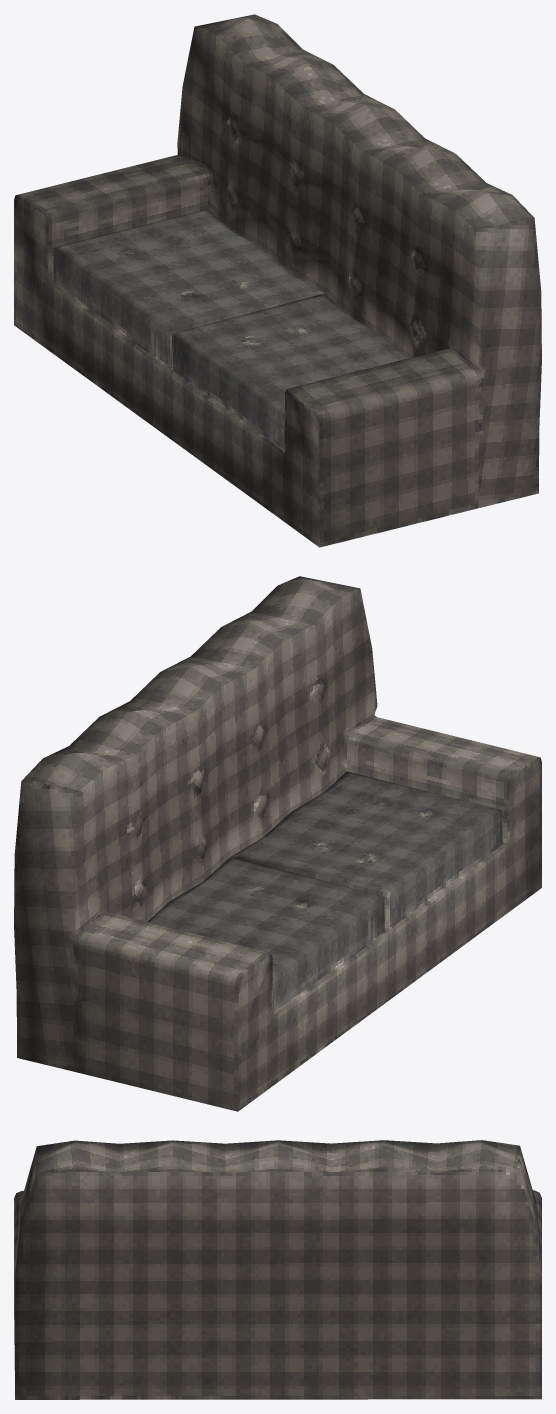
The model's file is couch.glb.
3 renders of one model, top to bottom at view 1: azimuth 30°, elevation 25°; view 2: azimuth 150°, elevation 25°; view 3: azimuth 270°, elevation 25°, orthographic. The views are drawn at different scales.
Visible parts, largest first — view 1: SofaLP-col; view 2: SofaLP-col; view 3: SofaLP-col.
Boxes of the visible parts, x1,y1,x2,y2 form: SofaLP-col: [14, 14, 541, 547]; SofaLP-col: [14, 576, 541, 1111]; SofaLP-col: [14, 1140, 541, 1399].
Size of the model in its own units: 1.14 by 1.35 by 2.62.
Materials: 1 (1 with a texture image).
